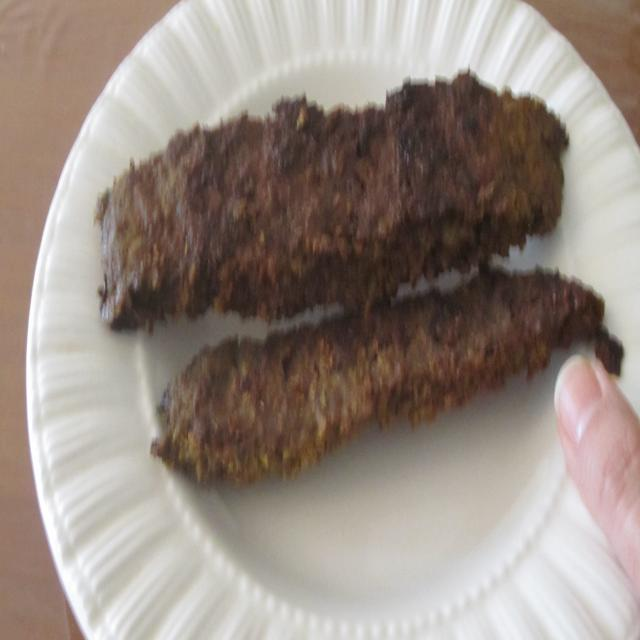cutlet: (75, 47, 608, 495)
